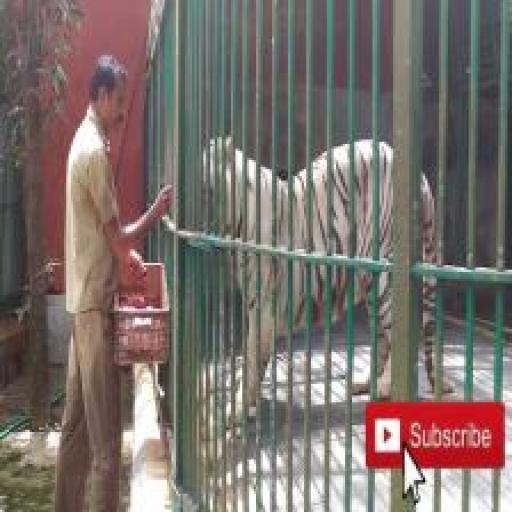Tiger: (190, 133, 456, 402)
